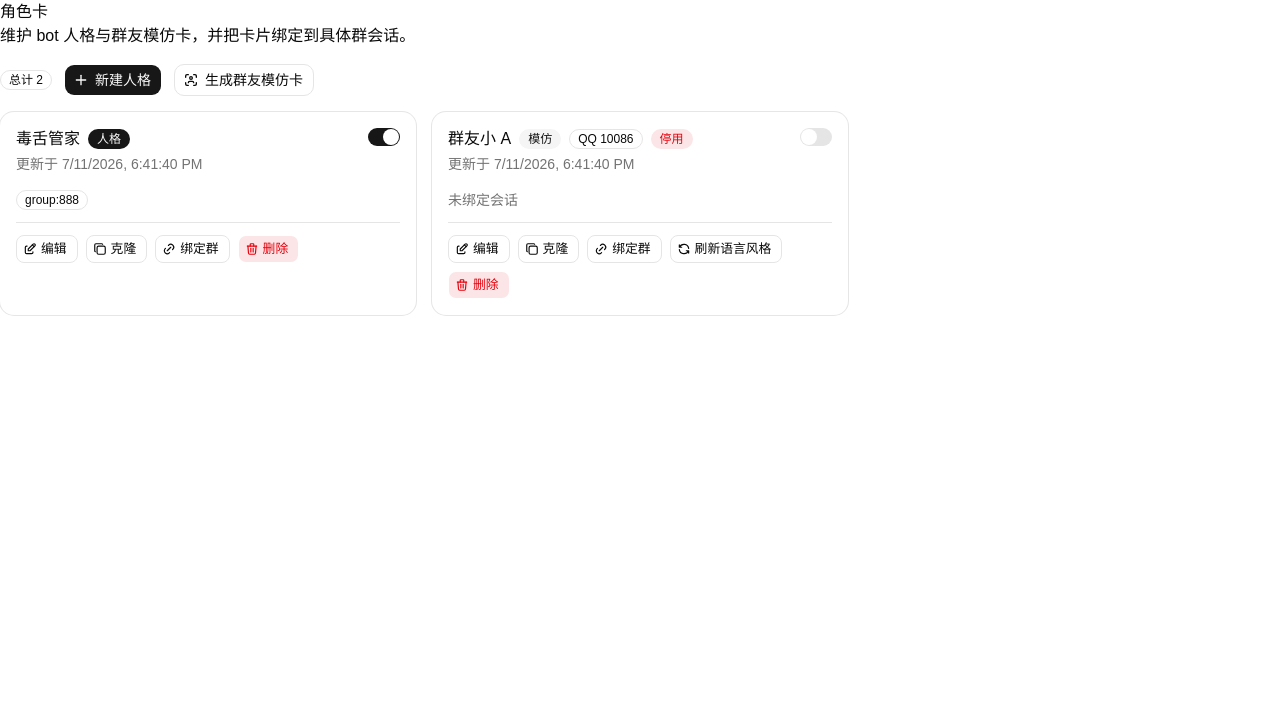
role cards workspace › keeps member mimic generated fields read-only in the edit sheet
Click the button "编辑" below "未绑定会话" at (479, 249), box [448, 235, 510, 263]
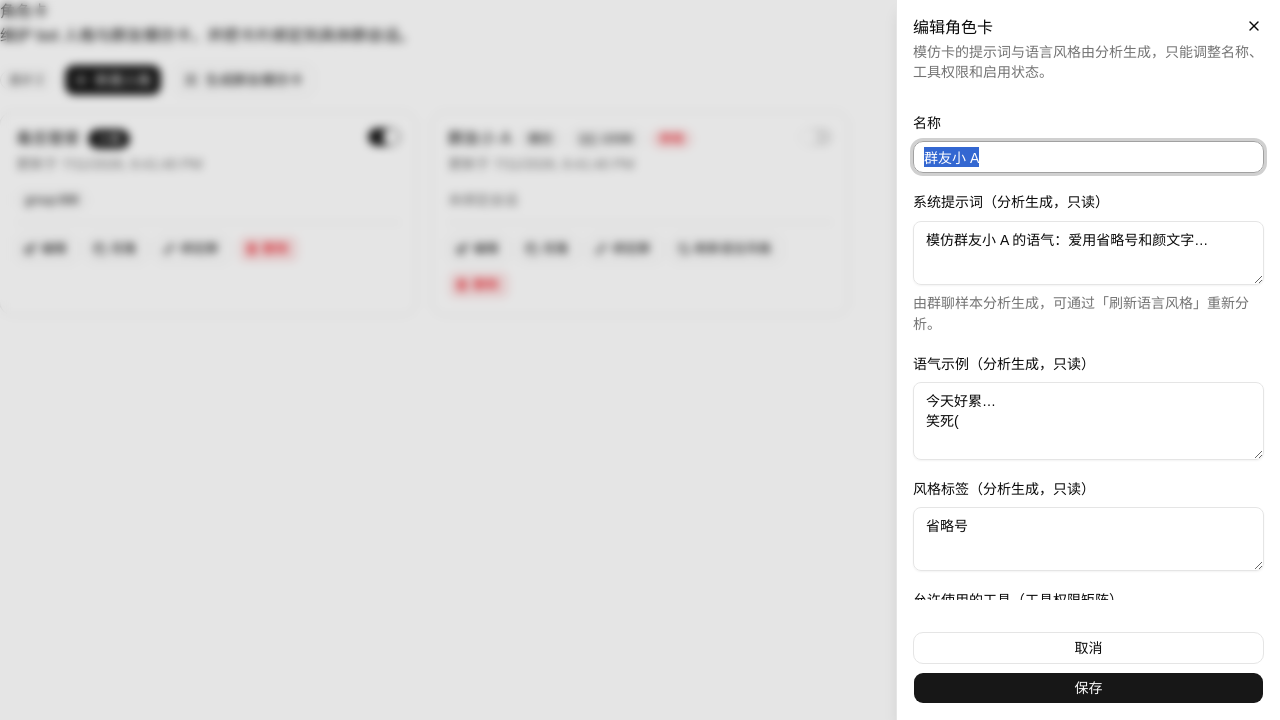
expect the text box labelled "系统提示词（分析生成，只读）" holds "模仿群友小 A 的语气：爱用省略号和颜文字…": met, box [913, 220, 1264, 284]
expect the text "由群聊样本分析生成，可通过「刷新语言风格」重新分析。" is shown: met, box [913, 292, 1264, 334]
